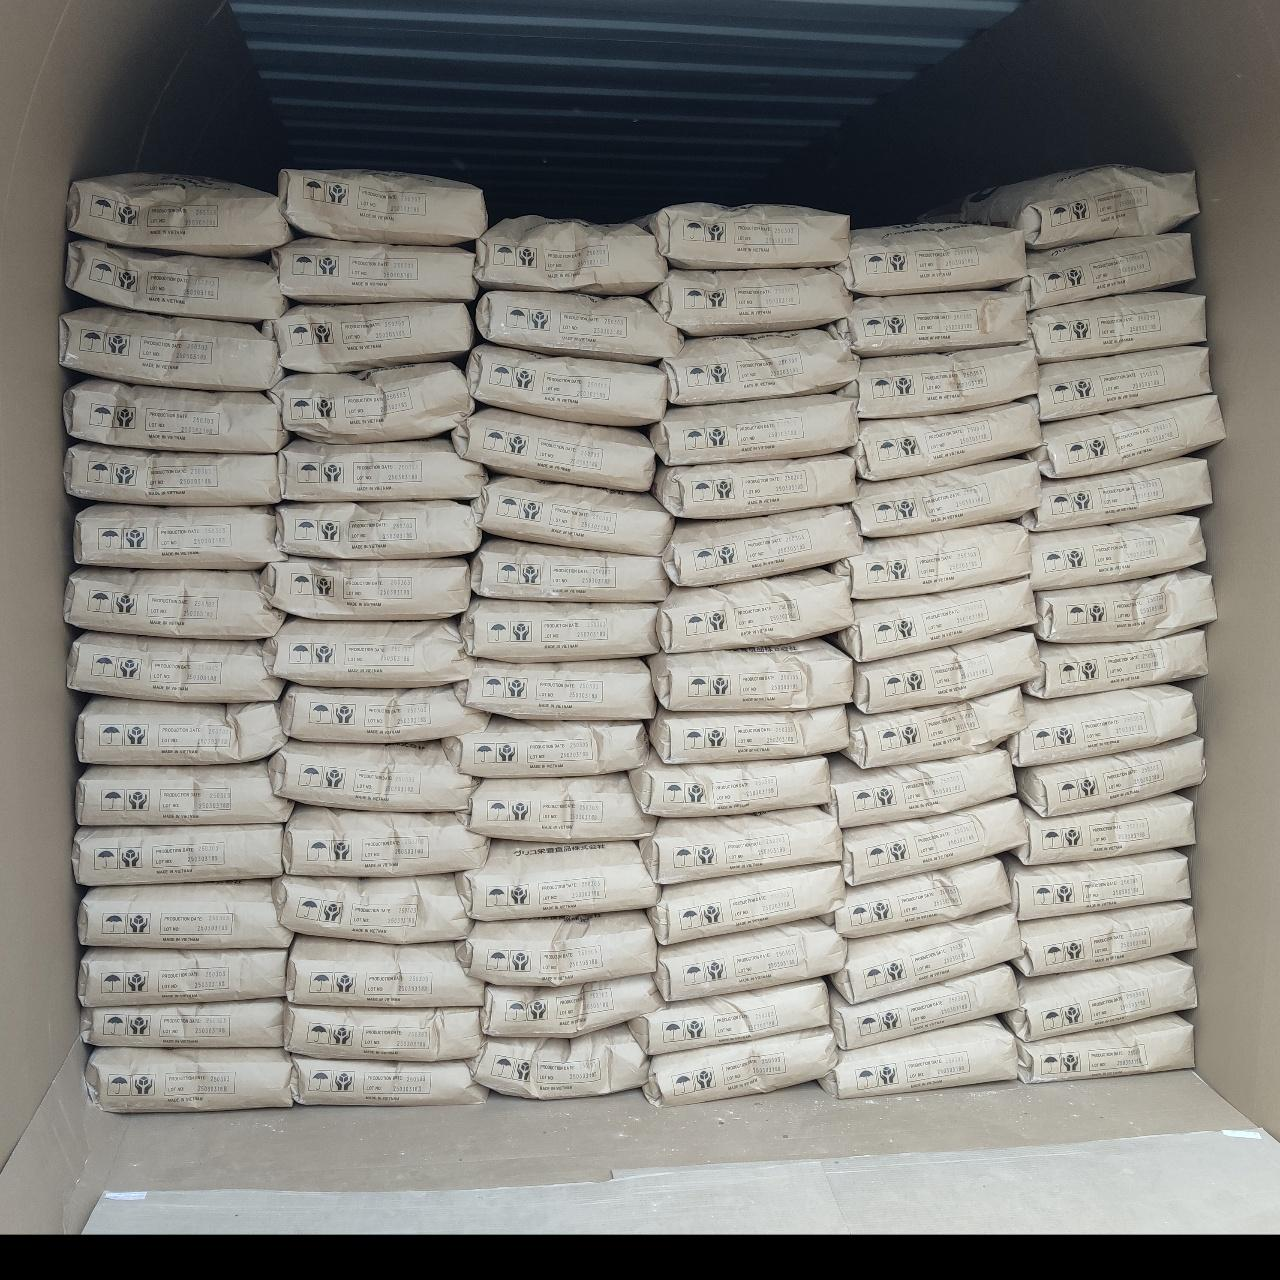sack: (962, 165, 1198, 248), (67, 173, 292, 256), (60, 307, 280, 390), (67, 240, 285, 321), (832, 908, 1020, 1002), (451, 408, 655, 490), (63, 379, 287, 452), (467, 343, 667, 425), (268, 362, 474, 442), (658, 568, 852, 652), (1027, 395, 1223, 477), (849, 397, 1041, 481), (838, 580, 1035, 661), (1007, 956, 1196, 1041), (639, 806, 842, 884), (281, 169, 486, 245), (822, 1019, 1017, 1098), (663, 508, 862, 586), (845, 798, 1024, 885), (472, 477, 673, 554), (64, 567, 284, 638), (832, 522, 1032, 599), (642, 1027, 838, 1105), (647, 865, 843, 944), (656, 919, 846, 1000), (459, 842, 658, 919), (855, 631, 1041, 713), (832, 966, 1017, 1048), (474, 216, 667, 294), (660, 329, 858, 406), (1016, 735, 1203, 816), (1009, 685, 1196, 765), (823, 857, 1012, 937), (457, 911, 658, 986), (68, 632, 284, 701), (825, 749, 1015, 828), (282, 804, 488, 877), (476, 291, 683, 362), (847, 686, 1027, 768), (649, 639, 851, 712), (844, 343, 1039, 418), (263, 302, 474, 372), (79, 880, 293, 948), (651, 394, 857, 464), (853, 459, 1040, 537), (629, 981, 828, 1054), (1006, 233, 1194, 309), (270, 741, 474, 811), (76, 760, 293, 825), (1022, 456, 1211, 531), (265, 618, 469, 687), (272, 874, 474, 944), (76, 697, 284, 764), (645, 268, 851, 335), (64, 443, 281, 506), (640, 203, 849, 268), (469, 1023, 648, 1099), (629, 748, 830, 816), (271, 237, 478, 302), (287, 937, 481, 1007), (74, 504, 284, 568), (839, 223, 1024, 295), (828, 291, 1028, 358), (1015, 903, 1196, 976), (86, 1047, 292, 1111), (1035, 570, 1216, 642), (653, 454, 856, 518), (471, 537, 668, 602), (1030, 516, 1205, 590), (72, 824, 282, 885), (1007, 850, 1190, 920), (1039, 346, 1210, 421), (280, 438, 486, 501), (1015, 794, 1194, 864), (261, 558, 470, 618), (1026, 629, 1207, 697), (77, 947, 287, 1006), (1028, 293, 1205, 362), (469, 774, 652, 840), (281, 685, 489, 743), (456, 659, 655, 720), (444, 717, 647, 777), (459, 600, 660, 660), (277, 501, 481, 559), (1017, 1014, 1193, 1081), (651, 706, 847, 763), (482, 975, 660, 1036), (286, 1005, 481, 1058), (82, 1000, 282, 1047), (291, 1056, 485, 1104)
